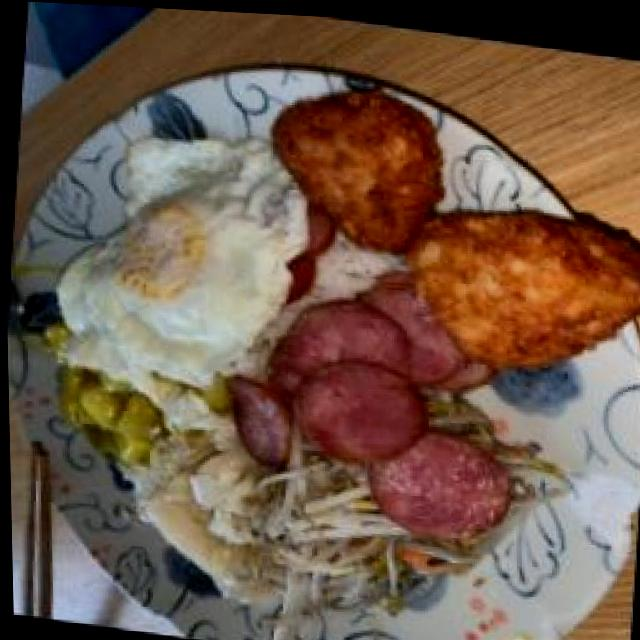chinese_cabbage: (131, 435, 258, 600)
chinese_sausage: (224, 249, 527, 544)
curry: (36, 319, 171, 468)
fried_eggs: (47, 117, 310, 392)
mung_bean_sprouts: (236, 444, 432, 620)
rice: (304, 227, 398, 306)
triangle_hash_brown: (251, 68, 640, 379)
